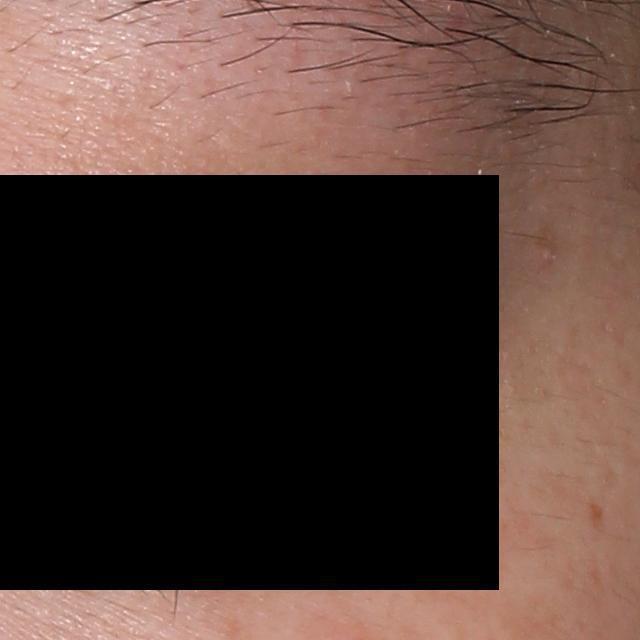melasma: (588, 499, 609, 535)
